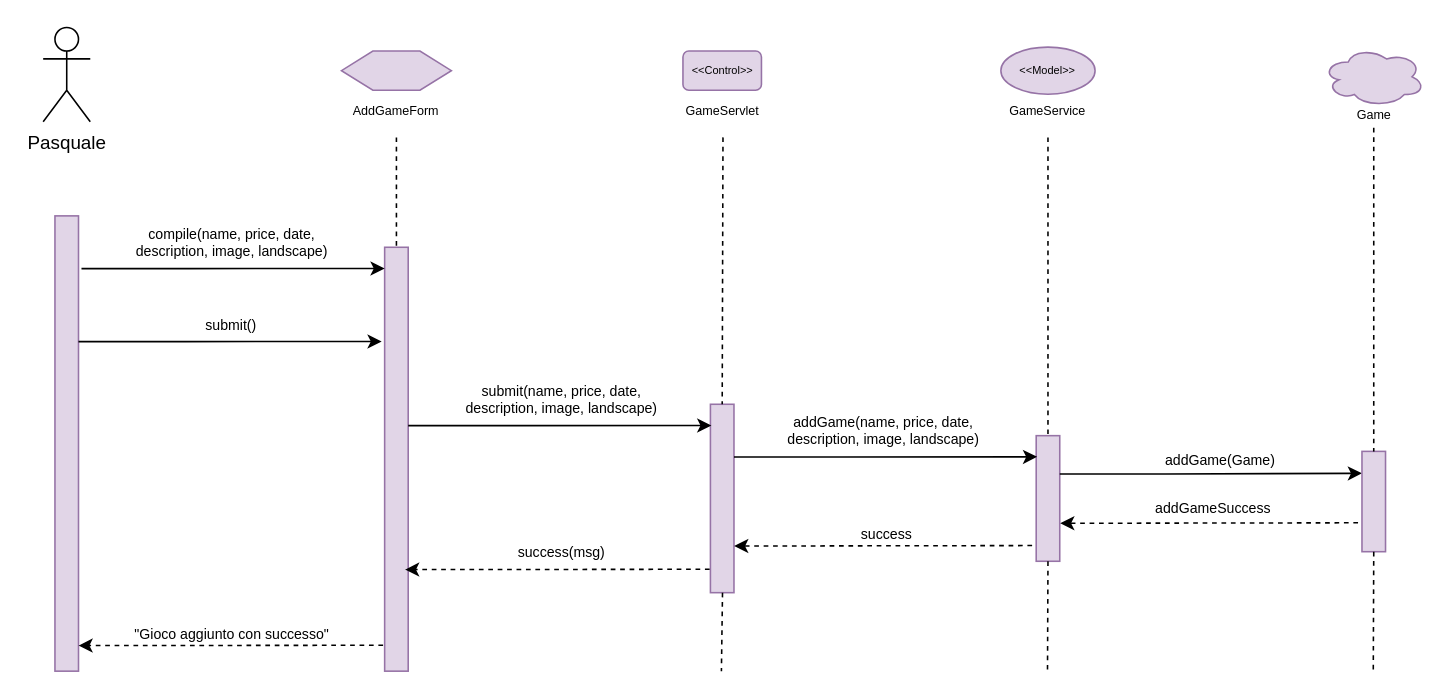
Some shapes in this 1452 by 700 pixel diagram are drawn without their labels. The centre of each missing label's shape, as x and y in pixels:
<<Boundary>>: point (395, 69)
<<Entity>>: point (1373, 76)
